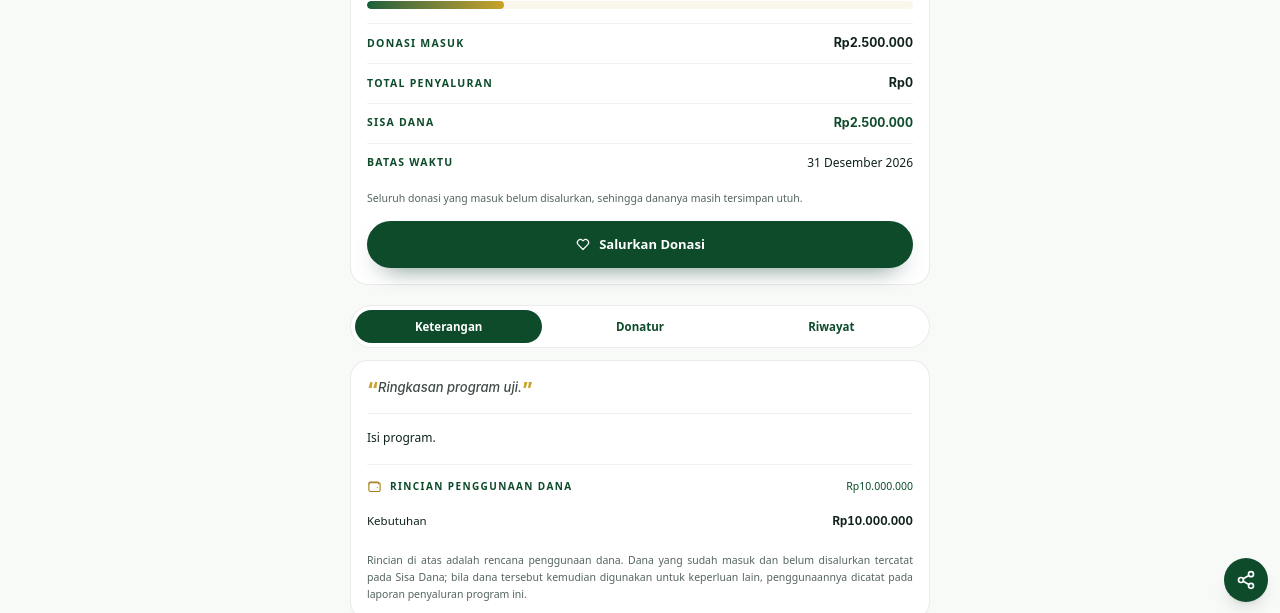
Test: Tab riwayat halaman donasi › menampilkan catatan dari database apa adanya, termasuk nominalnya
This screenshot has width=1280, height=613.
(page scrolled)
Click the tab "Riwayat". click: {"x": 831, "y": 327}
box: [738,310,925,343]
(page scrolled)
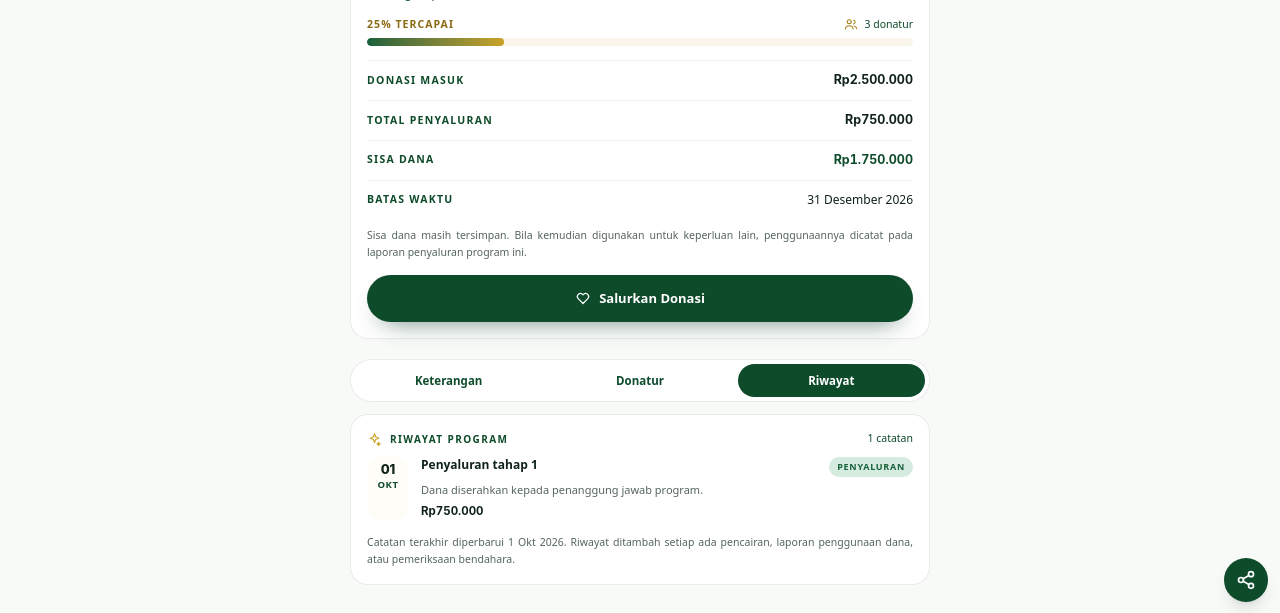
Check: the text "Penyaluran tahap 1" is shown, box [421,457,538,474]
Check: the text with test id "riwayat-nominal" shows "750.000", box [421,504,484,518]
